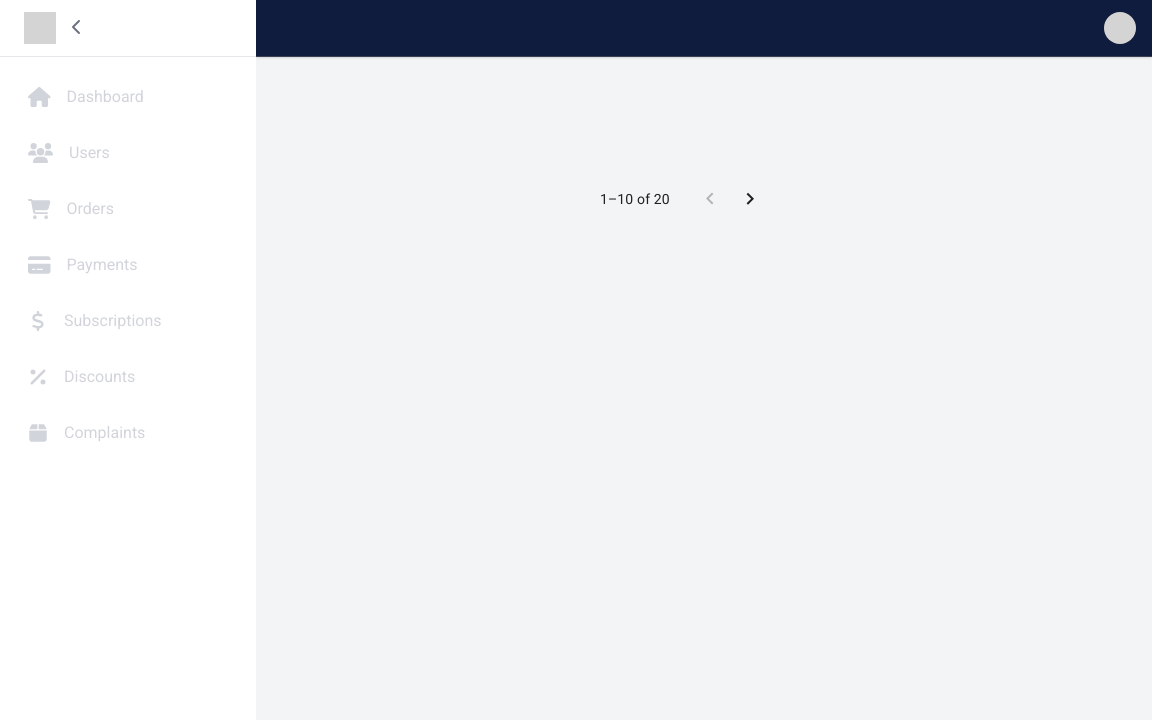
Users Page › changes page with pagination
The image size is (1152, 720).
Step 1. Click the button named "next page" → point(750, 199), box left=730, top=179, right=770, bottom=219
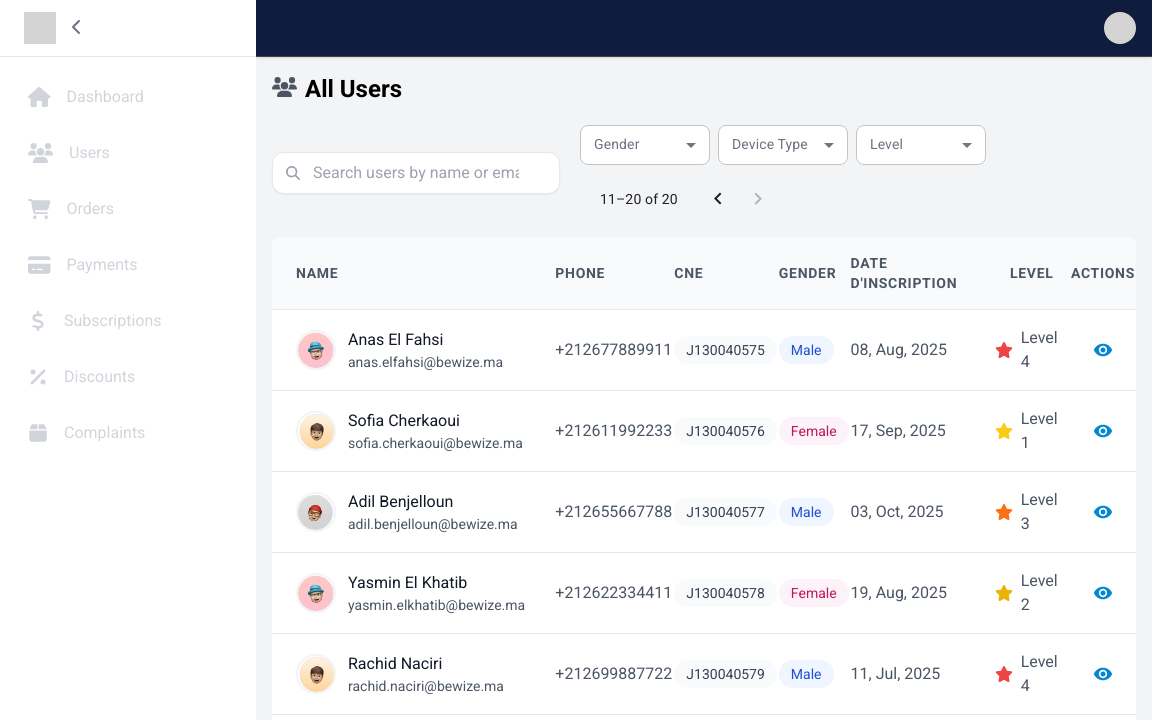
Expected: the row "Name Phone CNE Gender Date d'inscription Level Actions" is shown, left=272, top=237, right=1136, bottom=310
